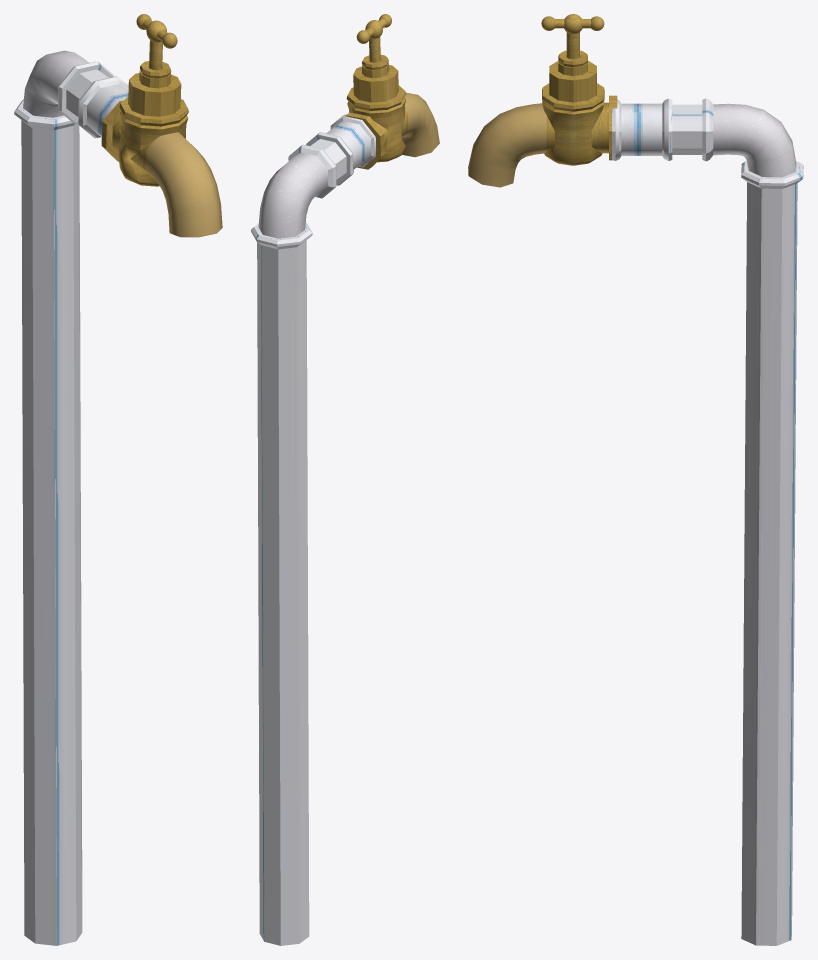
The model's file is tap.FBX.
The picture shows the model from 3 angles, left to right: view 1: azimuth 30°, elevation 25°; view 2: azimuth 150°, elevation 25°; view 3: azimuth 270°, elevation 25°; orthographic projection. The views are drawn at different scales.
Visible parts, largest first — view 1: Cylinder02, Sphere03; view 2: Cylinder02, Sphere03; view 3: Cylinder02, Sphere03.
Boxes of the visible parts, x1,y1,x2,y2 form: Cylinder02: (14,50,128,945); Sphere03: (101,14,222,237); Cylinder02: (251,114,375,945); Sphere03: (345,14,439,169); Cylinder02: (612,98,803,945); Sphere03: (468,14,617,187).
Size of the model in its own units: 223 by 3373 by 1115.
